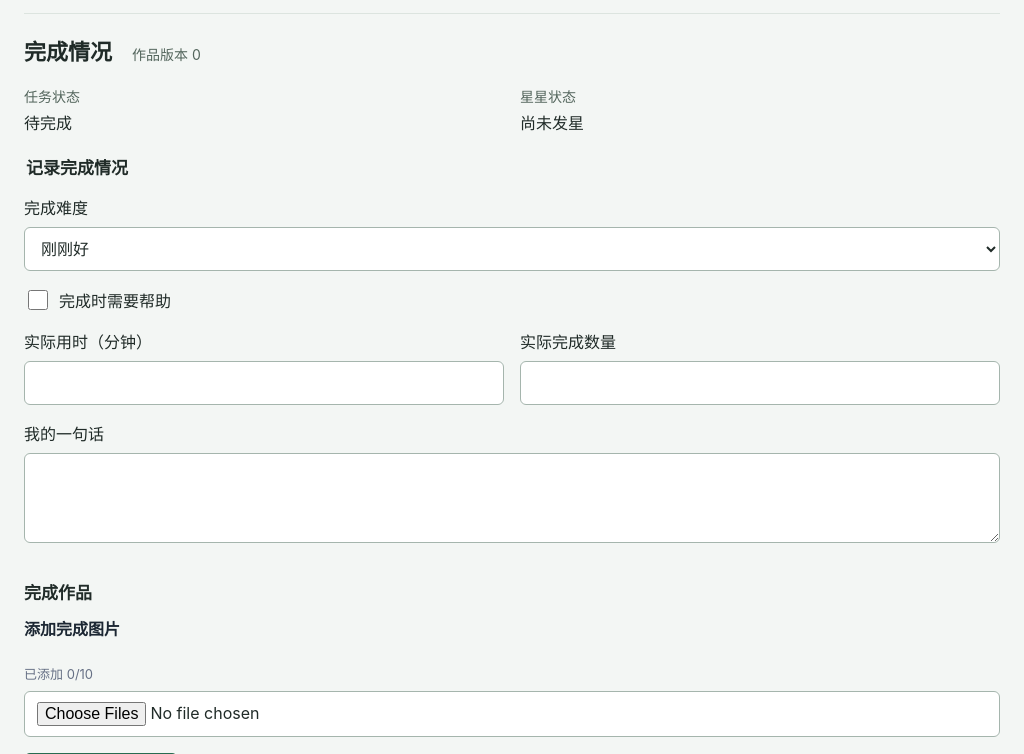
Test case: child task completion › shows measurable details and sends the approved completion payload including zero
The width and height of the screenshot is (1024, 754).
(page scrolled)
In the number field labelled "实际用时（分钟）": (264,383) [24,361,504,405], type "0"
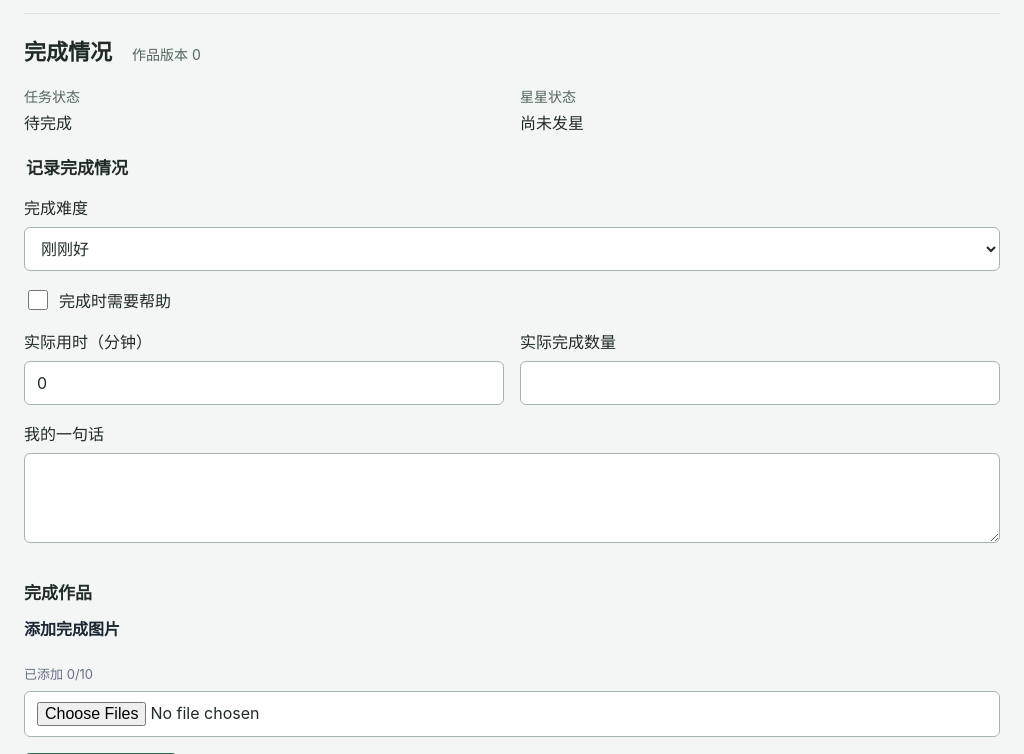
In the number field labelled "实际完成数量": (760,383) [520,361,1000,405], type "0"
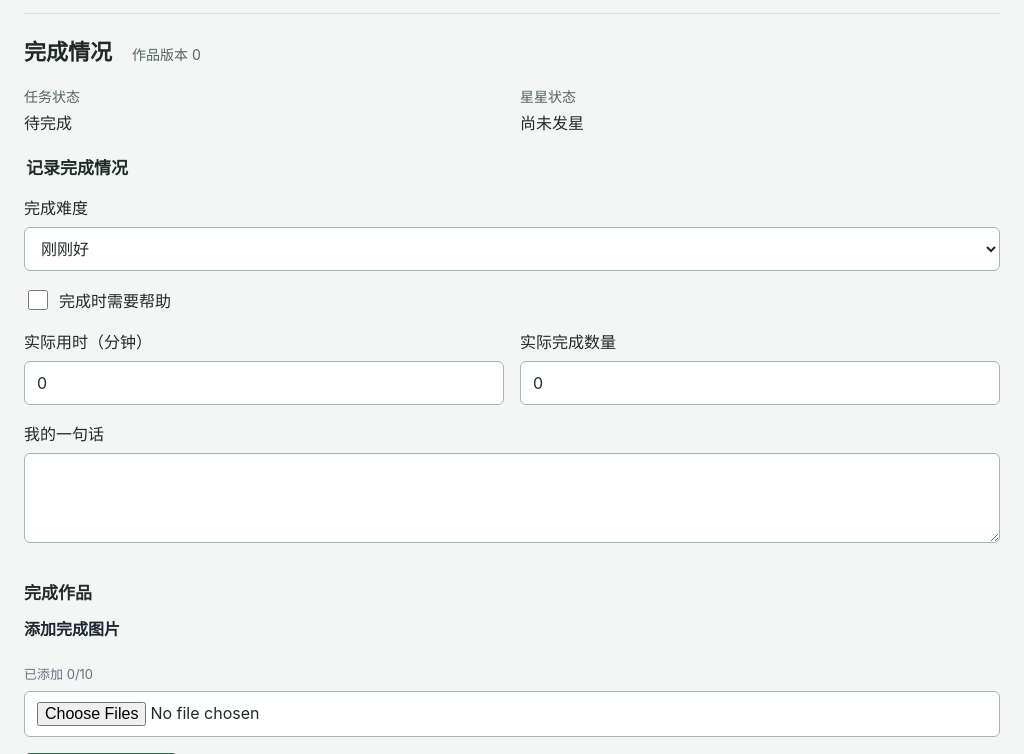
Select "有挑战" in the dropdown labelled "完成难度": (512,249) [24,227,1000,271]
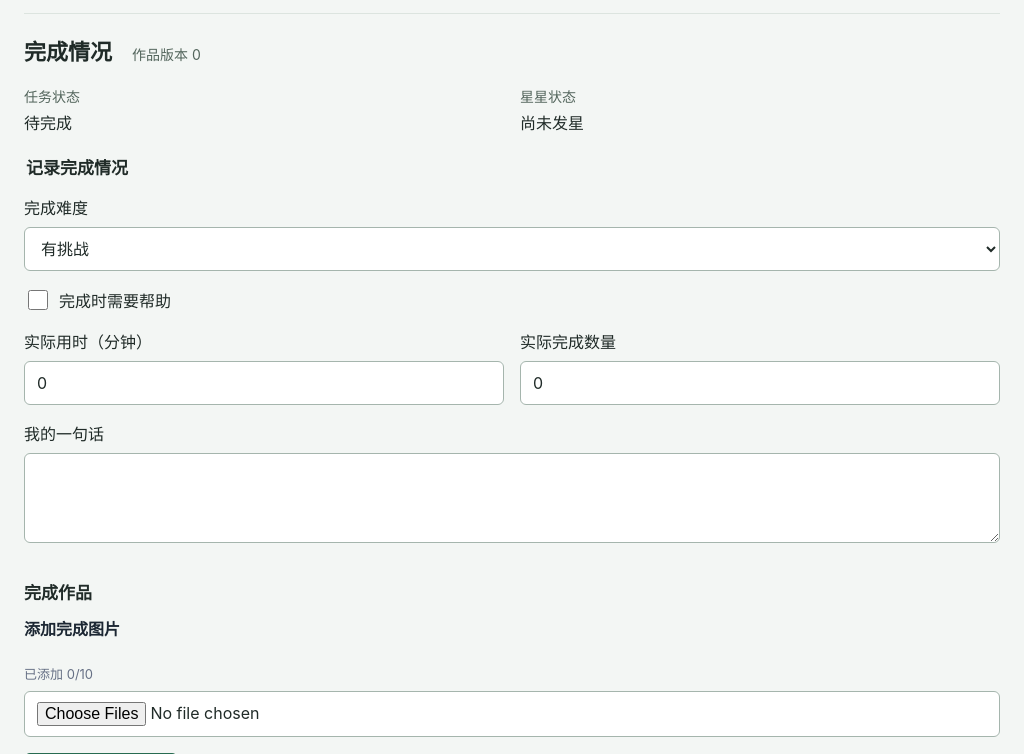
Click the checkbox labelled "完成时需要帮助": (38,300) [28,290,48,310]
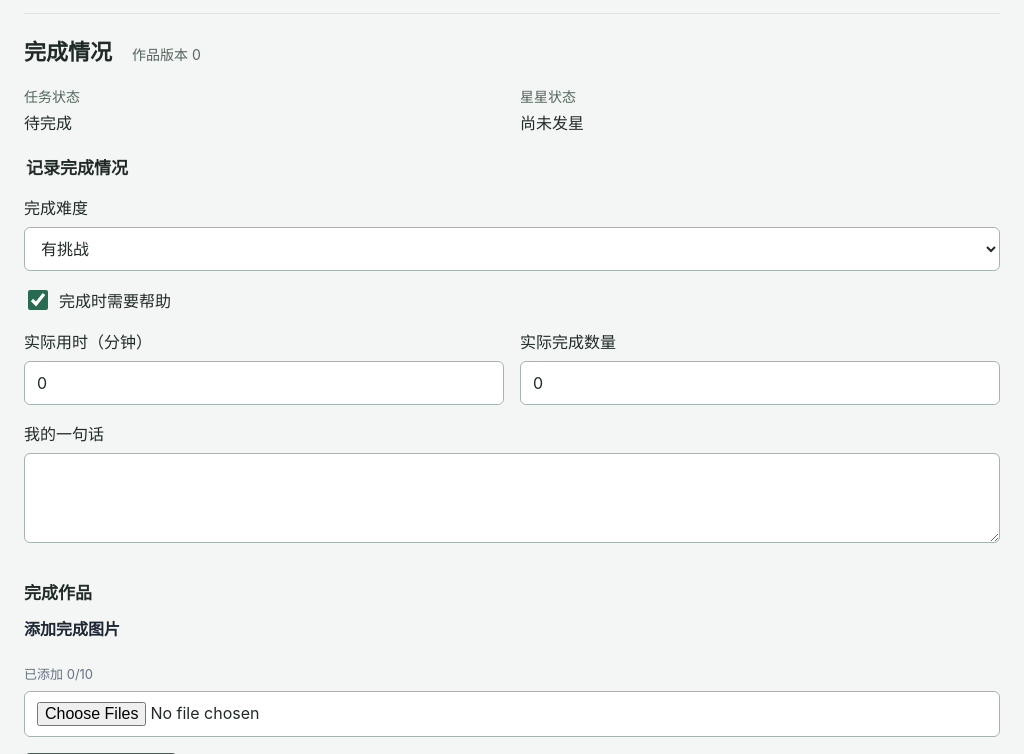
In the text box labelled "我的一句话": (512,498) [24,453,1000,543], type "今天状态一般"
(page scrolled)
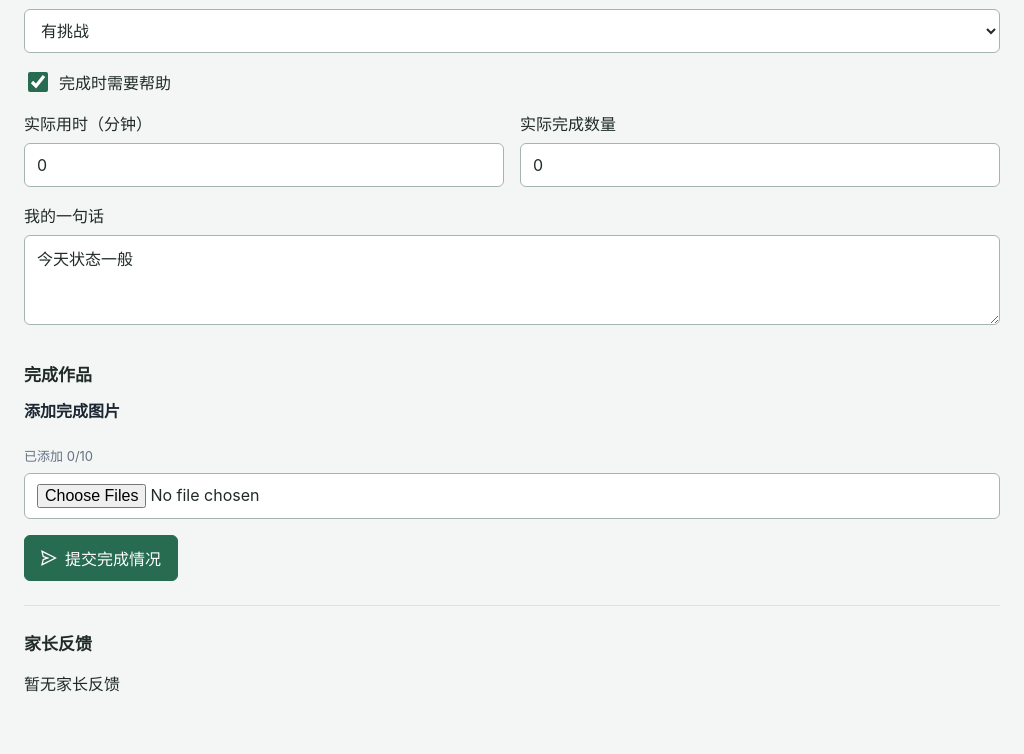
Click the button "提交完成情况": (101,558) [24,535,178,581]
(page scrolled)
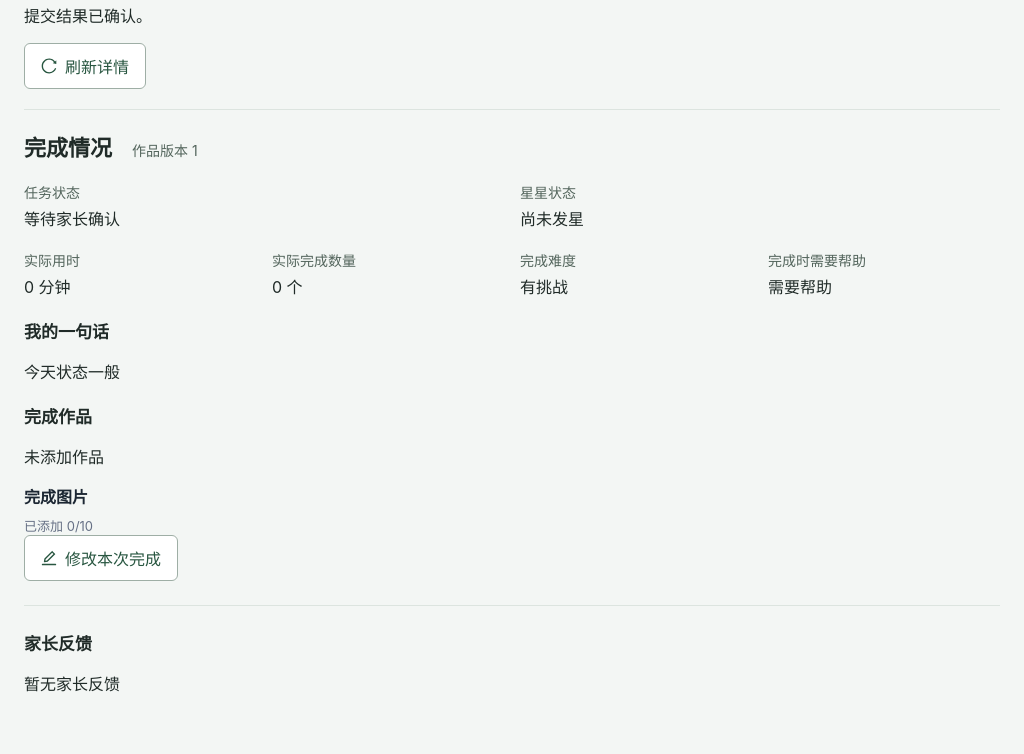
Now the text "提交结果已确认。" is shown, box [24,6,152,26]
Now the button "提交完成情况" is gone
Now the button "修改本次完成" is shown, box [24,535,178,581]
